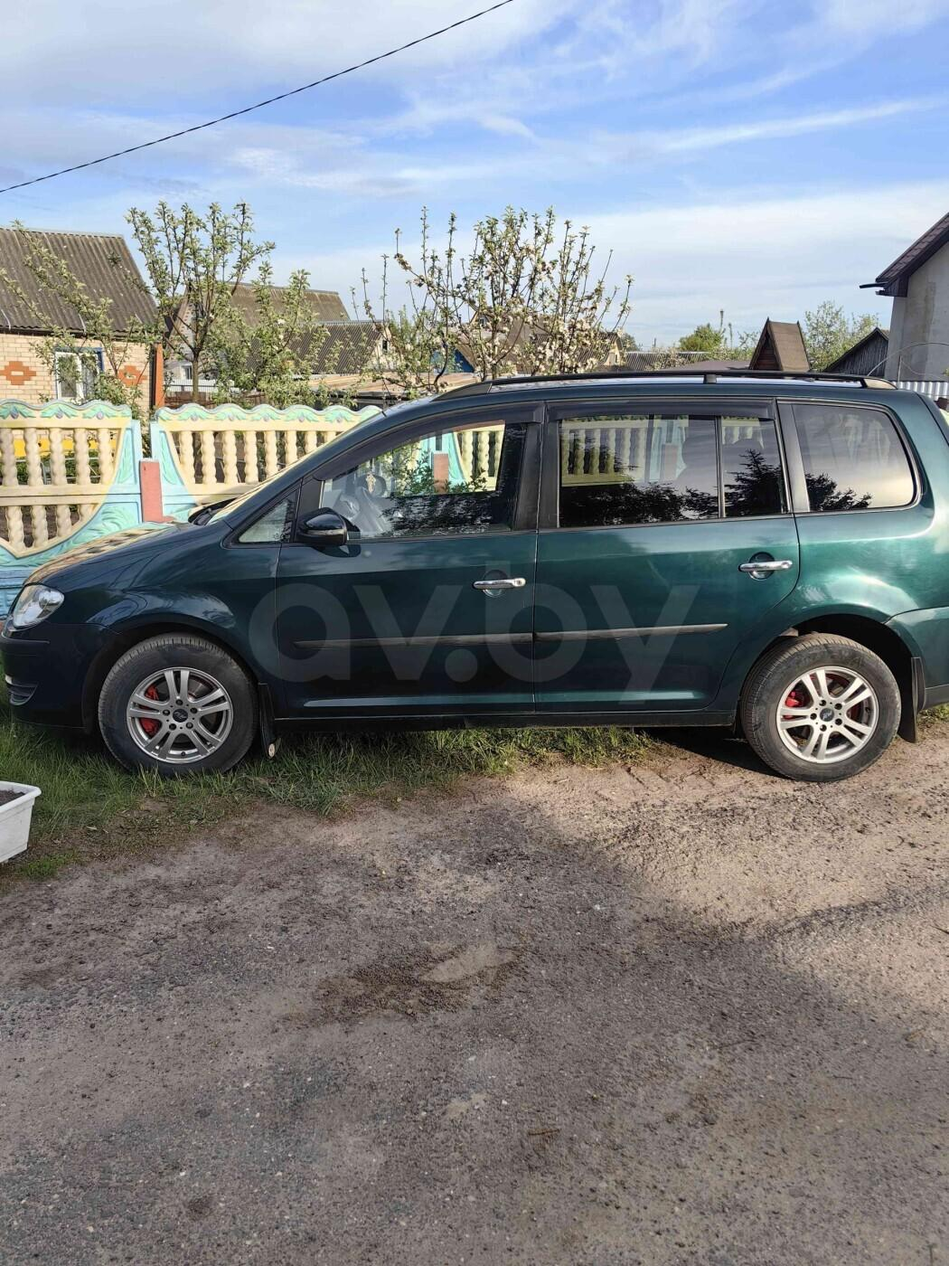Touran_2006-2010: (0, 369, 949, 783)
